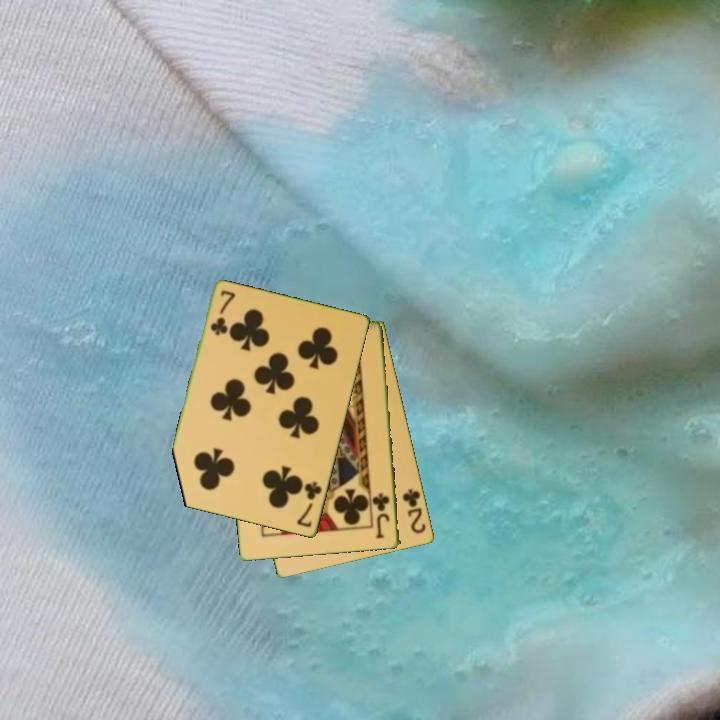2c: (399, 485, 429, 537)
7c: (293, 478, 325, 530), (207, 287, 237, 339)
Jc: (370, 490, 393, 542)
